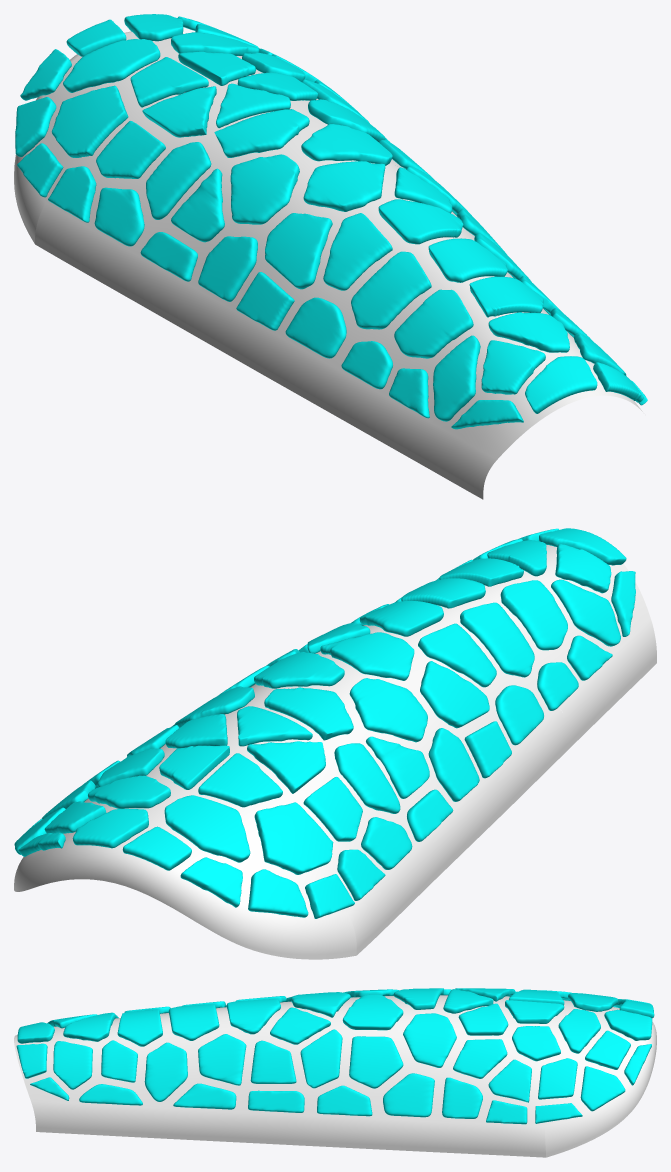
Rendered from fractured-relic-coffin-full.glb.
The picture shows the model from 3 angles, top to bottom: view 1: azimuth 30°, elevation 25°; view 2: azimuth 150°, elevation 25°; view 3: azimuth 270°, elevation 25°; orthographic projection. The views are drawn at different scales.
Size of the model in its own units: 0.0138 by 0.00632 by 0.035.
